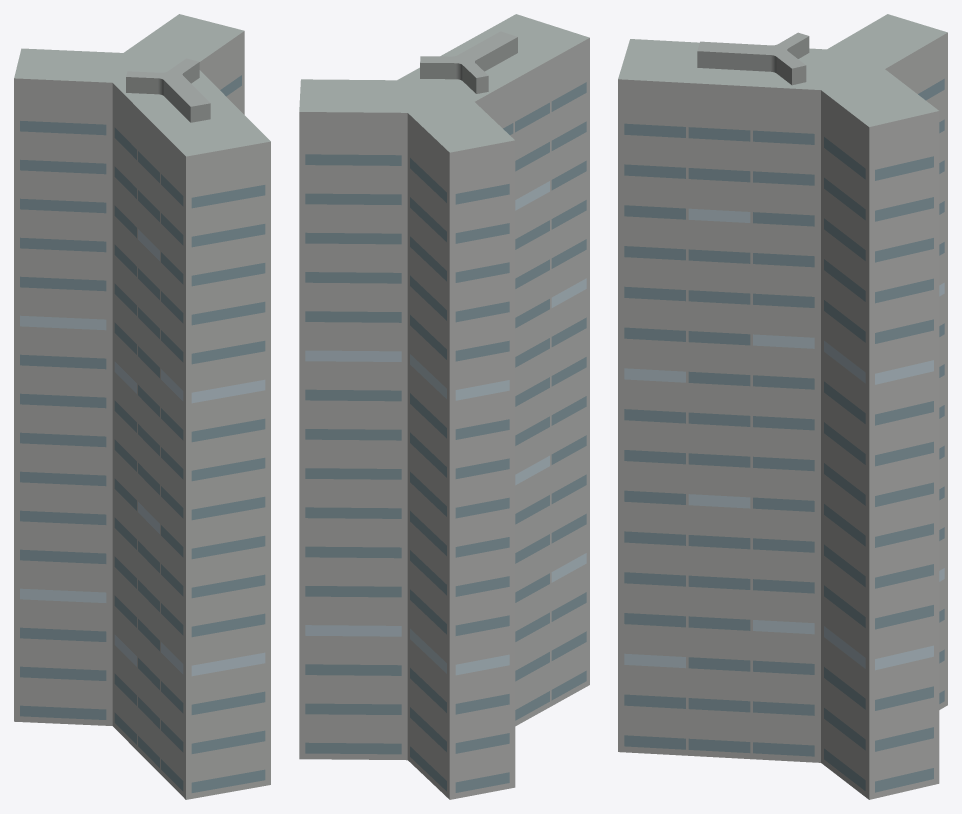
Rendered from fallback-godeok-raemian-hillstate-completion-207.glb.
3 views of the same model, side by side, from view 1: azimuth 30°, elevation 25°; view 2: azimuth 150°, elevation 25°; view 3: azimuth 270°, elevation 25° (orthographic). The views are drawn at different scales.
Parts seen in each view (by area): view 1: fallback-godeok-raemian-hillstate-completion-207; view 2: fallback-godeok-raemian-hillstate-completion-207; view 3: fallback-godeok-raemian-hillstate-completion-207.
Boxes of the visible parts, <box> form: fallback-godeok-raemian-hillstate-completion-207: <box>14,14,270,799</box>; fallback-godeok-raemian-hillstate-completion-207: <box>299,14,589,799</box>; fallback-godeok-raemian-hillstate-completion-207: <box>618,14,947,799</box>.
Bounding box in the file's own units: 34.86 × 99 × 42.94.
